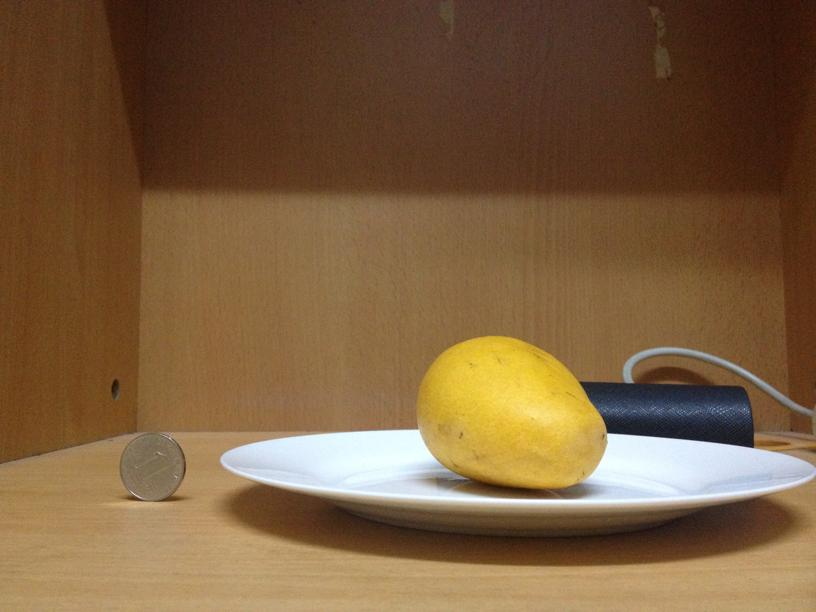coin: (115, 433, 187, 497)
mango: (415, 333, 607, 489)
